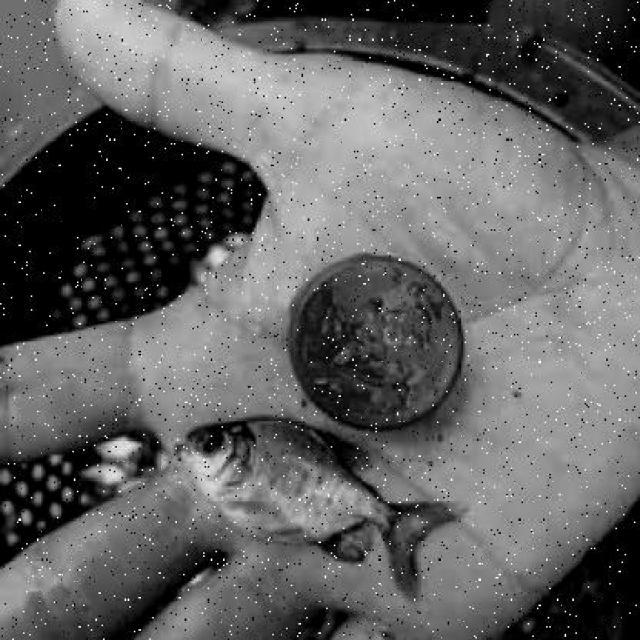ikan-pacu: (173, 415, 430, 557)
